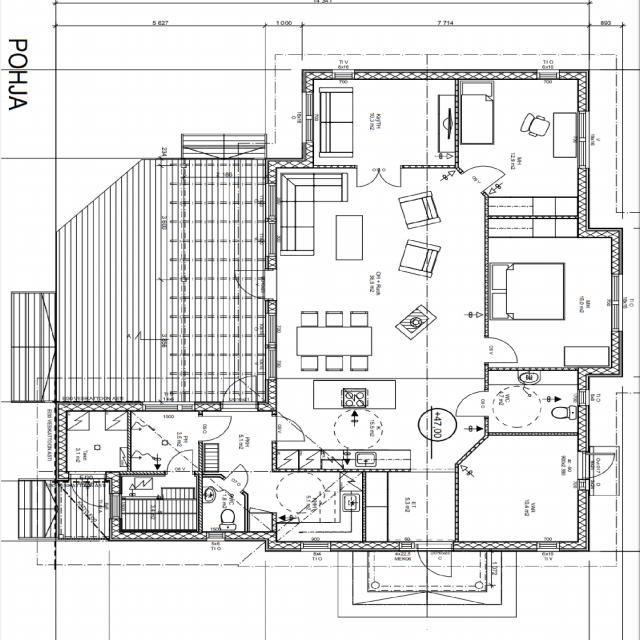door: (462, 156, 504, 193), (416, 541, 451, 581), (222, 373, 256, 412), (71, 471, 105, 509), (232, 270, 276, 299), (578, 453, 619, 479), (224, 463, 257, 492), (198, 416, 232, 441), (272, 417, 305, 441), (456, 391, 488, 415), (484, 338, 516, 362), (167, 450, 192, 475), (378, 164, 401, 186), (357, 164, 378, 186), (250, 495, 271, 516)
